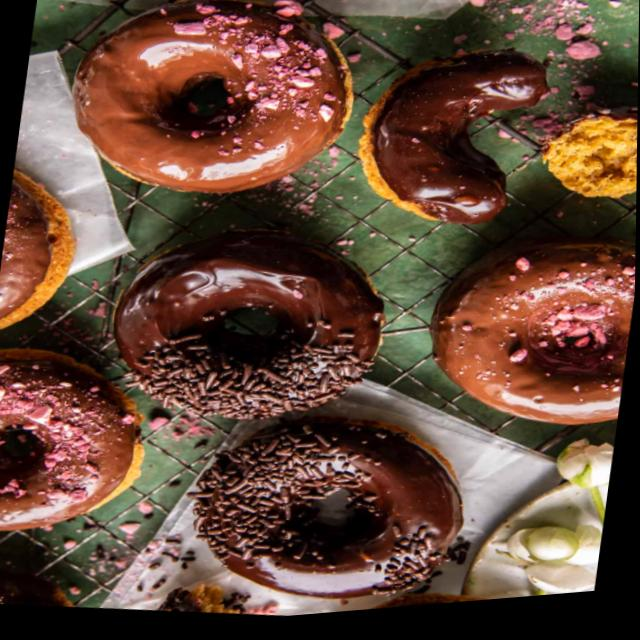donut: (96, 209, 402, 453), (56, 0, 370, 222), (181, 398, 479, 628), (422, 227, 637, 449), (0, 331, 160, 550)
